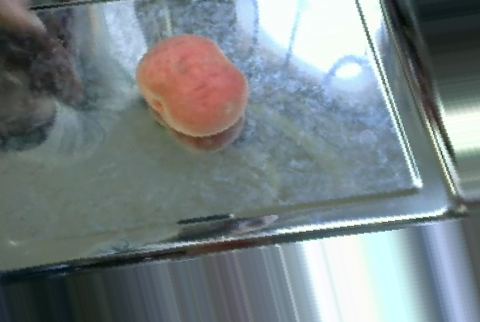Peach: (137, 33, 247, 136)
